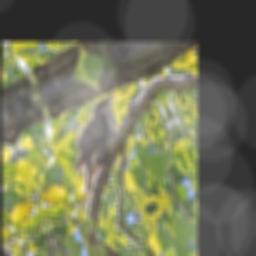Cuckoo: (52, 90, 149, 208)
